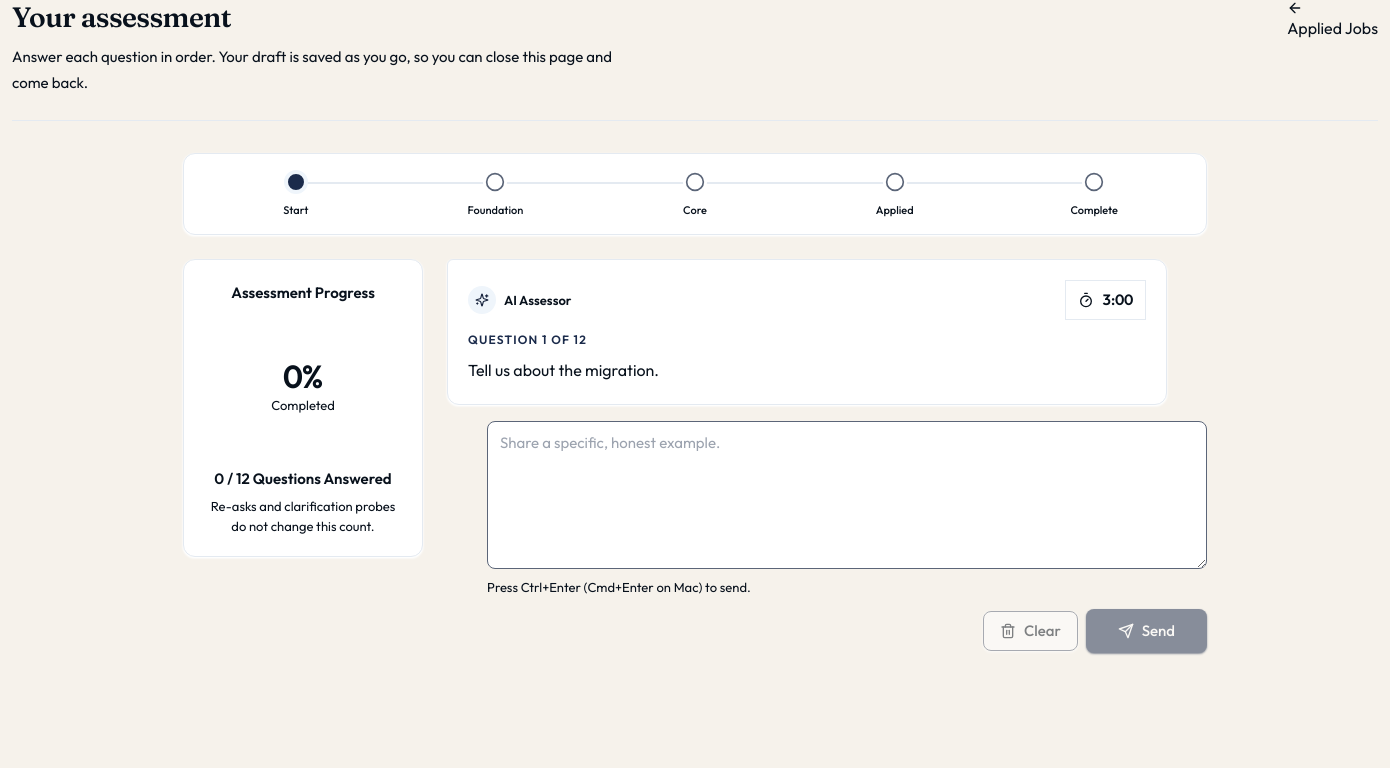
Test: respond › refuses to re-file an answer the server says belongs to a turn that has moved on
The image size is (1390, 768).
Type "A retry after a lost response" into the text box named "Your answer".
click(847, 495); type("A retry after a lost response")  # box [487,421,1207,569]
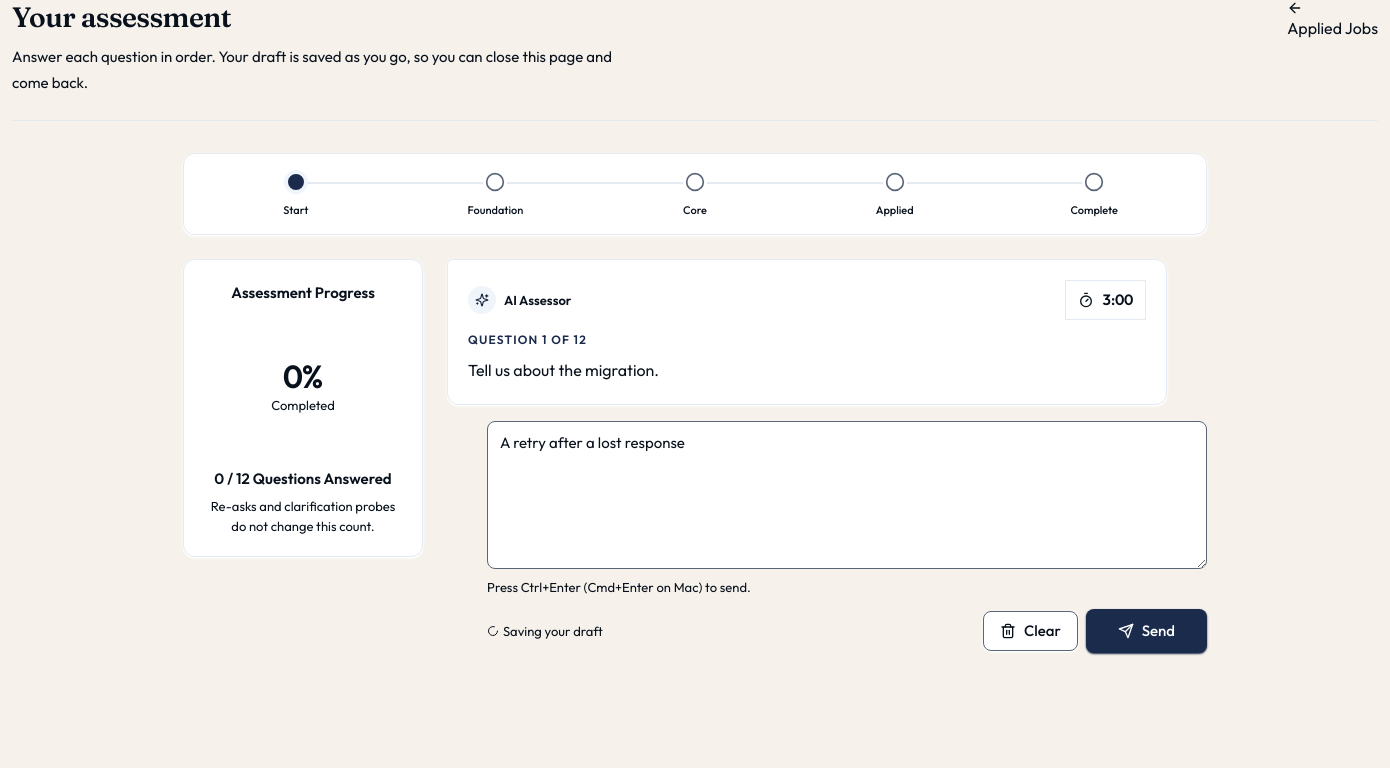
Click the button "Send".
click(1146, 631)  # box [1086,609,1207,653]
(page scrolled)
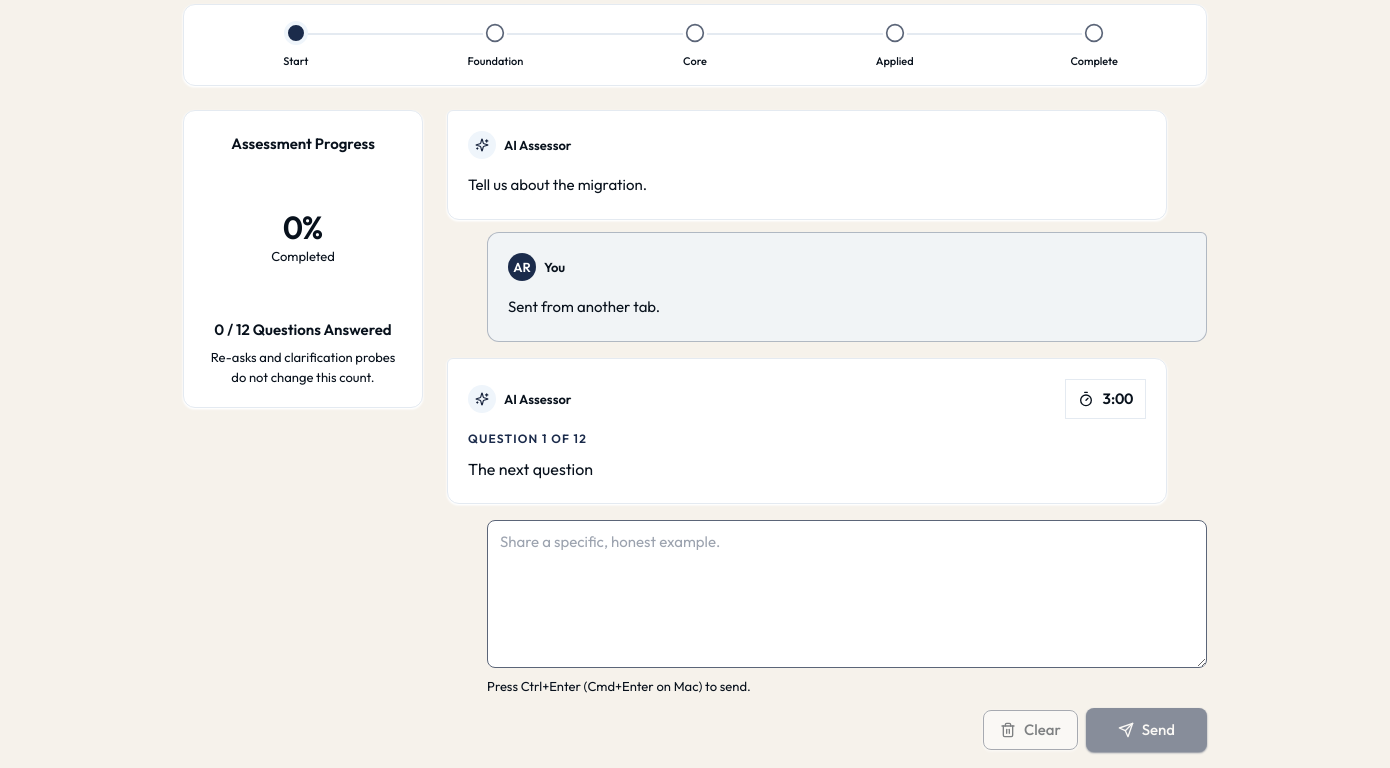
Check: the text "The next question" is shown, box [468,459,593,479]
Check: the text "Sent from another tab." is shown, box [508,297,660,316]
